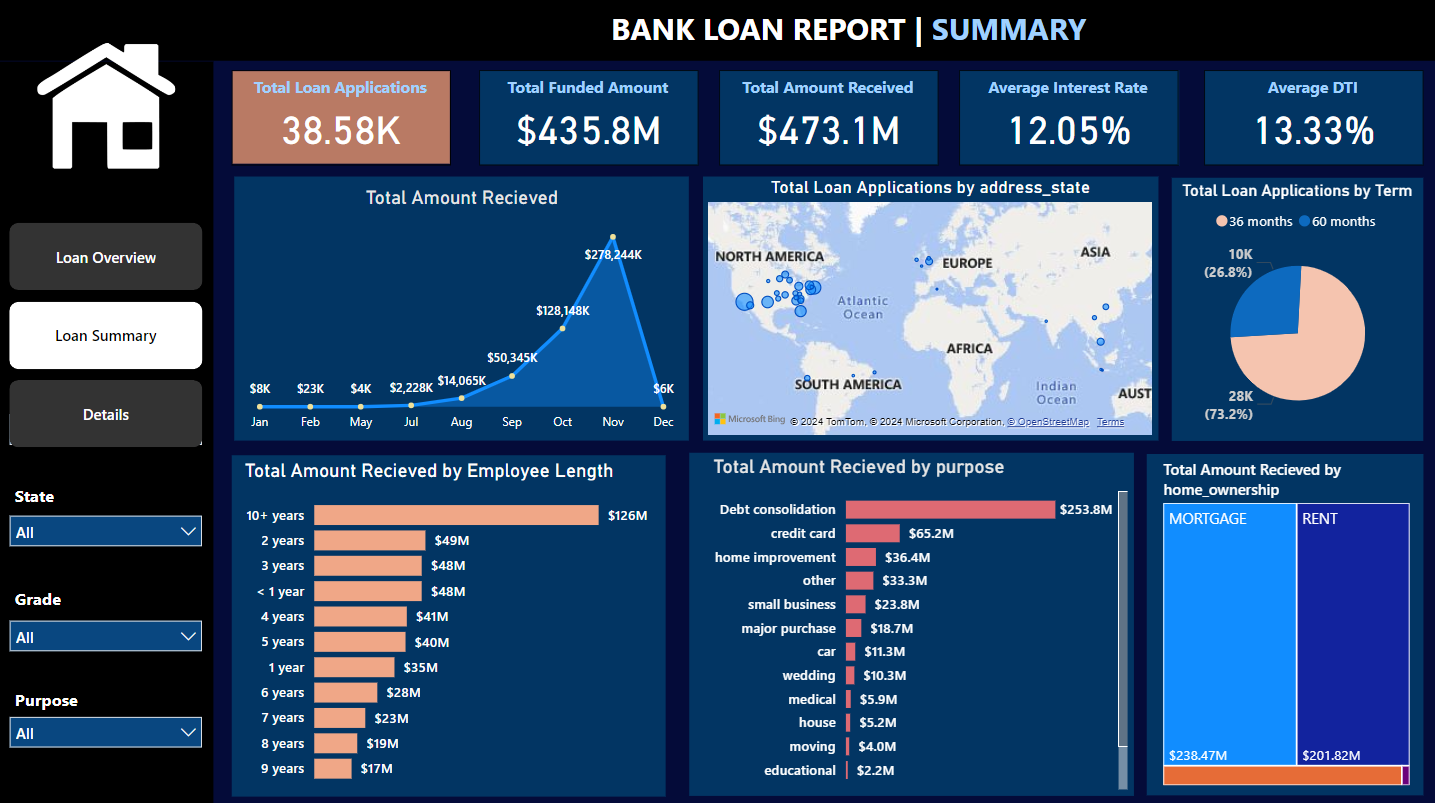

Layout of this report page (visuals, bound fields, positions):
{"tool":"powerbi","page":{"name":"Loan Summary","canvas":[1280,720],"ordinal":1},"visuals":[{"type":"shape","box":[0,0,1280.3,55],"z":0},{"type":"slicer","fields":{"Values":["Bank_loan_data.grade"]},"box":[0,543.1,191.8,41],"z":0,"group":"g8"},{"type":"slicer","fields":{"Values":["Bank_loan_data.purpose"]},"box":[0,629.5,191.8,41],"z":0,"group":"g6"},{"type":"shape","box":[0,55.5,191.8,664.7],"z":1000},{"type":"textbox","box":[9.7,519,67.6,33.8],"z":1000,"group":"g8"},{"type":"textbox","box":[9.7,609,86.9,33.8],"z":1000,"group":"g6"},{"type":"textbox","box":[540.5,3.6,452.4,51.9],"z":2000},{"type":"group","id":"g1","title":"Group 1","box":[208.5,63.9,195.4,84.5],"z":3000},{"type":"shape","box":[208.5,63.9,195.4,84.5],"z":3000,"group":"g1"},{"type":"shape","box":[428.3,63.9,195.4,84.5],"z":3000,"group":"g2"},{"type":"shape","box":[641.8,63.9,195.4,84.5],"z":3000,"group":"g3"},{"type":"shape","box":[856.6,63.9,195.4,84.5],"z":3000,"group":"g4"},{"type":"shape","box":[1073.7,63.9,195.4,84.5],"z":3000,"group":"g5"},{"type":"group","id":"g2","title":"Group 1","box":[428.3,63.9,195.4,84.5],"z":4000},{"type":"card","fields":{"Values":["Bank_loan_data.Total_Loan_Applications"]},"box":[208.5,91.6,195.4,44.6],"z":4000,"group":"g1"},{"type":"card","fields":{"Values":["Bank_loan_data.Toatal funded Amount"]},"box":[428.3,91.6,195.4,44.6],"z":4000,"group":"g2"},{"type":"card","fields":{"Values":["Bank_loan_data.Total Amount Recieved"]},"box":[641.8,91.6,195.4,44.6],"z":4000,"group":"g3"},{"type":"card","fields":{"Values":["Bank_loan_data.Average interest Rate"]},"box":[856.6,91.6,195.4,44.6],"z":4000,"group":"g4"},{"type":"card","fields":{"Values":["Bank_loan_data.Average Dti"]},"box":[1073.7,91.6,195.4,44.6],"z":4000,"group":"g5"},{"type":"textbox","box":[214.5,63.9,182.2,36.2],"z":5000,"group":"g1"},{"type":"textbox","box":[434.3,63.9,182.2,36.2],"z":5000,"group":"g2"},{"type":"group","id":"g3","title":"Group 1","box":[641.8,63.9,195.4,84.5],"z":5000},{"type":"textbox","box":[647.8,63.9,182.2,36.2],"z":5000,"group":"g3"},{"type":"textbox","box":[862.6,63.9,182.2,36.2],"z":5000,"group":"g4"},{"type":"textbox","box":[1079.7,63.9,182.2,36.2],"z":5000,"group":"g5"},{"type":"group","id":"g4","title":"Group 1","box":[856.6,63.9,195.4,84.5],"z":6000},{"type":"shape","box":[209.9,158,405,235],"z":7000},{"type":"group","id":"g5","title":"Group 1","box":[1073.7,63.9,195.4,84.5],"z":8000},{"type":"group","id":"g6","title":"Group 2","box":[0,609,191.8,61.5],"z":9000},{"type":"textbox","box":[9.7,335.4,146,32.6],"z":10000},{"type":"group","id":"g7","title":"Group 4","box":[0,427.3,191.8,156.9],"z":11000},{"type":"lineChart","fields":{"Y":["Bank_loan_data.Total Amount Recieved"],"Category":["Date Table.Month"]},"box":[209.9,166.5,405.4,226.8],"z":12000},{"type":"slicer","fields":{"Values":["Select Mesures.Select Mesures"]},"box":[0,359.5,191.8,47.1],"z":13000},{"type":"shape","box":[627.3,158,405.4,235.3],"z":14000},{"type":"map","title":"Total Loan Applications by address_state","fields":{"Size":["Bank_loan_data.Total Amount Recieved"],"Category":["Bank_loan_data.address_state"]},"box":[627.3,158,405.4,235.3],"z":15000},{"type":"shape","box":[1044.8,159.3,224.4,234],"z":16000},{"type":"pieChart","title":"Total Loan Applications by Term","fields":{"Category":["Bank_loan_data.term"],"Y":["Bank_loan_data.Total_Loan_Applications"]},"box":[1049.6,161.7,216,228],"z":17000},{"type":"shape","box":[208.7,406.6,386.1,304],"z":18000},{"type":"barChart","fields":{"Y":["Bank_loan_data.Total Amount Recieved"],"Category":["Bank_loan_data.emp_length"]},"box":[214.7,410.2,380,299.2],"z":19000},{"type":"shape","box":[615.3,404.2,395.7,305.2],"z":20000},{"type":"barChart","fields":{"Y":["Bank_loan_data.Total Amount Recieved"],"Category":["Bank_loan_data.purpose"]},"box":[632.2,406.6,378.8,302.8],"z":21000},{"type":"shape","box":[1023.1,405.4,246.1,304],"z":22000},{"type":"slicer","fields":{"Values":["Bank_loan_data.address_state"]},"box":[0,449,191.8,49.5],"z":22000,"group":"g7"},{"type":"treemap","fields":{"Values":["Bank_loan_data.Total Amount Recieved"],"Group":["Bank_loan_data.home_ownership"]},"box":[1032.7,410.2,229.2,295.6],"z":23000},{"type":"pageNavigator","box":[9.7,199.1,172.5,202.7],"z":23001},{"type":"image","box":[30.2,25.3,132.7,138.7],"z":23002},{"type":"textbox","box":[9.7,427.3,67.6,30.2],"z":24001,"group":"g7"},{"type":"group","id":"g8","title":"Group 3","box":[0,519,191.8,65.1],"z":24007,"group":"g7"}]}

Visuals, with their boxes in screenshot pixels (x1, y1, x2, y2), scaled from the page's 1280x720 canvas onto the 1435x803 screenshot:
shape: rect(0, 0, 1434, 61)
slicer - Bank_loan_data.grade: rect(0, 606, 215, 651)
slicer - Bank_loan_data.purpose: rect(0, 702, 215, 748)
shape: rect(0, 62, 215, 802)
textbox: rect(11, 579, 87, 617)
textbox: rect(11, 679, 108, 717)
textbox: rect(606, 4, 1113, 62)
"Group 1" group: rect(234, 71, 453, 166)
shape: rect(234, 71, 453, 166)
shape: rect(480, 71, 699, 166)
shape: rect(720, 71, 939, 166)
shape: rect(960, 71, 1179, 166)
shape: rect(1204, 71, 1423, 166)
"Group 1" group: rect(480, 71, 699, 166)
card - Bank_loan_data.Total_Loan_Applications: rect(234, 102, 453, 152)
card - Bank_loan_data.Toatal funded Amount: rect(480, 102, 699, 152)
card - Bank_loan_data.Total Amount Recieved: rect(720, 102, 939, 152)
card - Bank_loan_data.Average interest Rate: rect(960, 102, 1179, 152)
card - Bank_loan_data.Average Dti: rect(1204, 102, 1423, 152)
textbox: rect(240, 71, 445, 112)
textbox: rect(487, 71, 691, 112)
"Group 1" group: rect(720, 71, 939, 166)
textbox: rect(726, 71, 931, 112)
textbox: rect(967, 71, 1171, 112)
textbox: rect(1210, 71, 1415, 112)
"Group 1" group: rect(960, 71, 1179, 166)
shape: rect(235, 176, 689, 438)
"Group 1" group: rect(1204, 71, 1423, 166)
"Group 2" group: rect(0, 679, 215, 748)
textbox: rect(11, 374, 175, 410)
"Group 4" group: rect(0, 477, 215, 652)
lineChart - Bank_loan_data.Total Amount Recieved x Date Table.Month: rect(235, 186, 690, 439)
slicer - Select Mesures.Select Mesures: rect(0, 401, 215, 453)
shape: rect(703, 176, 1158, 439)
"Total Loan Applications by address_state" map: rect(703, 176, 1158, 439)
shape: rect(1171, 178, 1423, 439)
"Total Loan Applications by Term" pieChart: rect(1177, 180, 1419, 435)
shape: rect(234, 453, 667, 793)
barChart - Bank_loan_data.Total Amount Recieved x Bank_loan_data.emp_length: rect(241, 457, 667, 791)
shape: rect(690, 451, 1133, 791)
barChart - Bank_loan_data.Total Amount Recieved x Bank_loan_data.purpose: rect(709, 453, 1133, 791)
shape: rect(1147, 452, 1423, 791)
slicer - Bank_loan_data.address_state: rect(0, 501, 215, 556)
treemap - Bank_loan_data.Total Amount Recieved x Bank_loan_data.home_ownership: rect(1158, 457, 1415, 787)
pageNavigator: rect(11, 222, 204, 448)
image: rect(34, 28, 183, 183)
textbox: rect(11, 477, 87, 510)
"Group 3" group: rect(0, 579, 215, 651)
